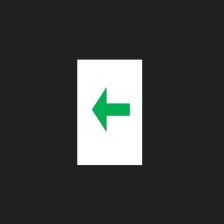left: (88, 83, 134, 136)
